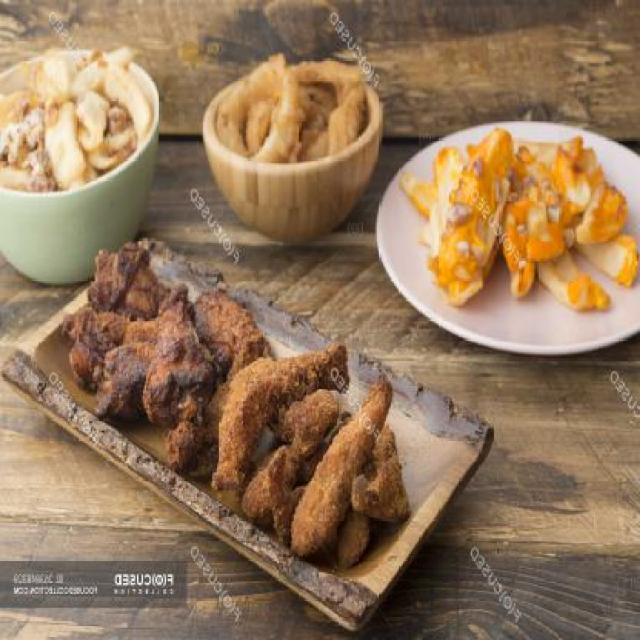chicken wings: (51, 243, 418, 568)
french fries: (392, 102, 632, 336)
onion rings: (204, 48, 382, 188)
